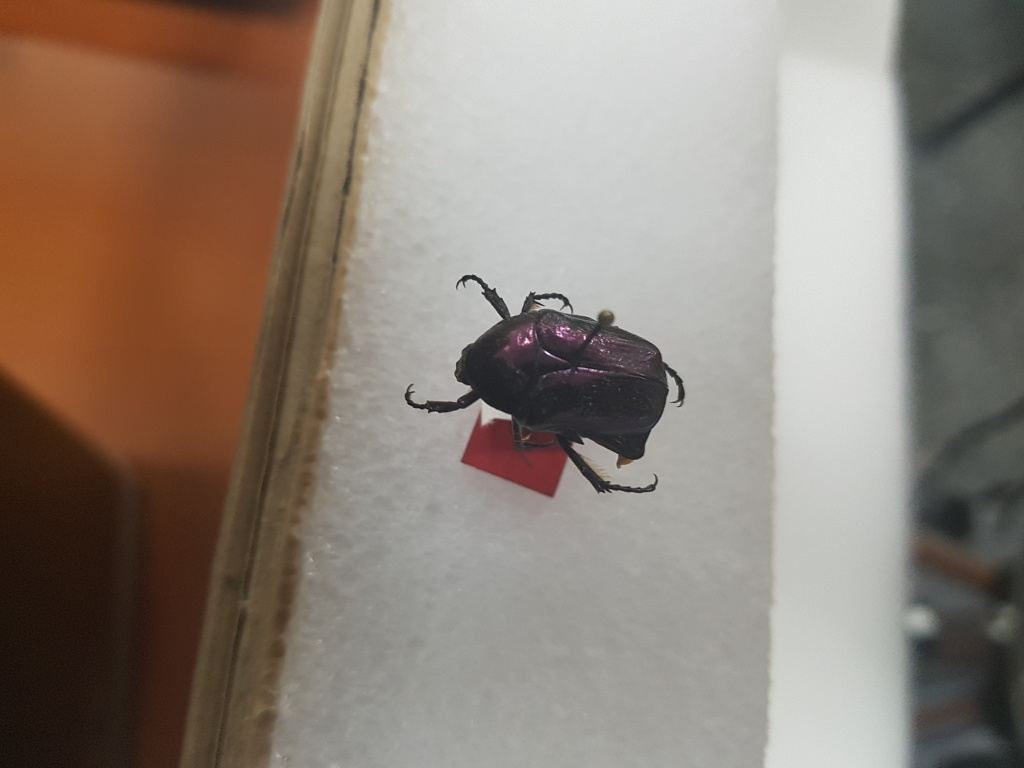Protaetia_besucheti: (402, 260, 688, 514)
